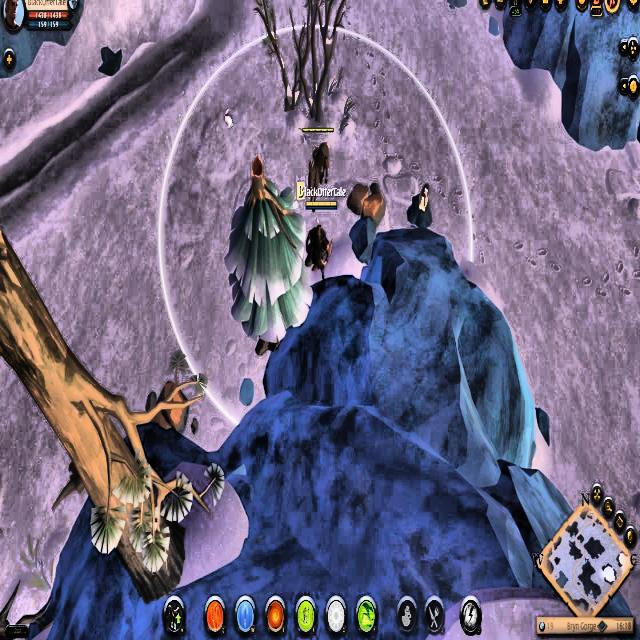copperore: (407, 182, 434, 232)
limestone: (144, 377, 191, 442), (346, 176, 386, 228)
